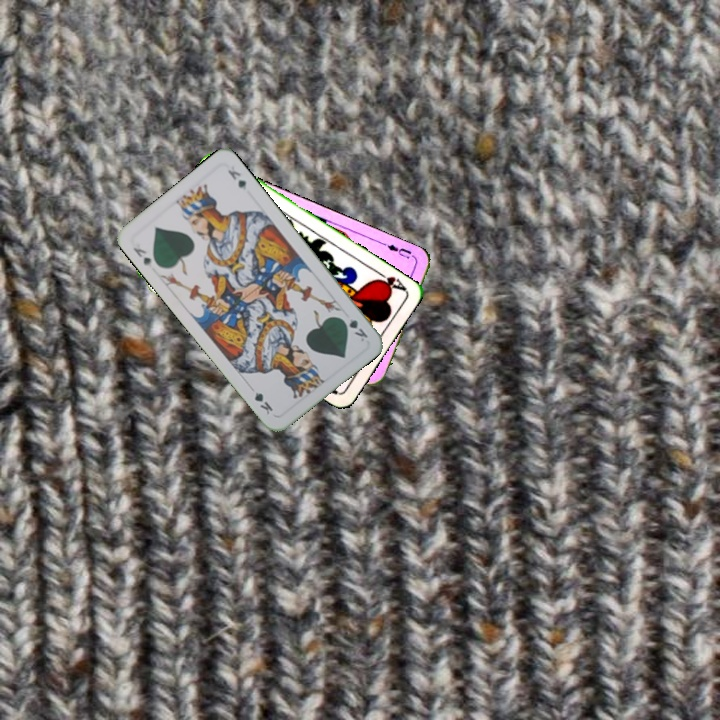EU: (381, 239, 414, 262)
GK: (337, 312, 371, 344), (129, 243, 155, 269)
HA: (371, 266, 408, 293)
